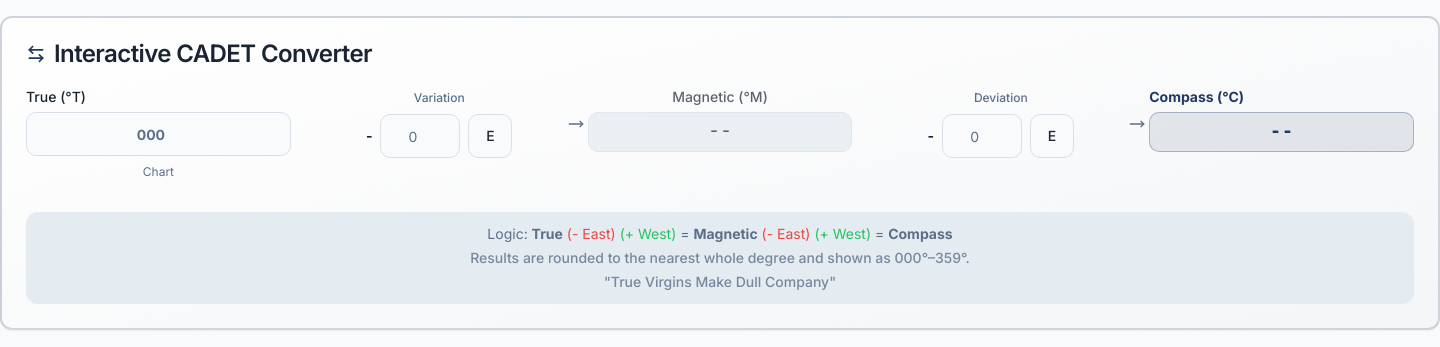
Test: CompassConverter › accepts bounds and decimals, toggles directions, and rounds only final headings
The width and height of the screenshot is (1440, 347).
Type "359" into the number field named "True heading". click: (158, 134)
box: [26, 112, 291, 156]
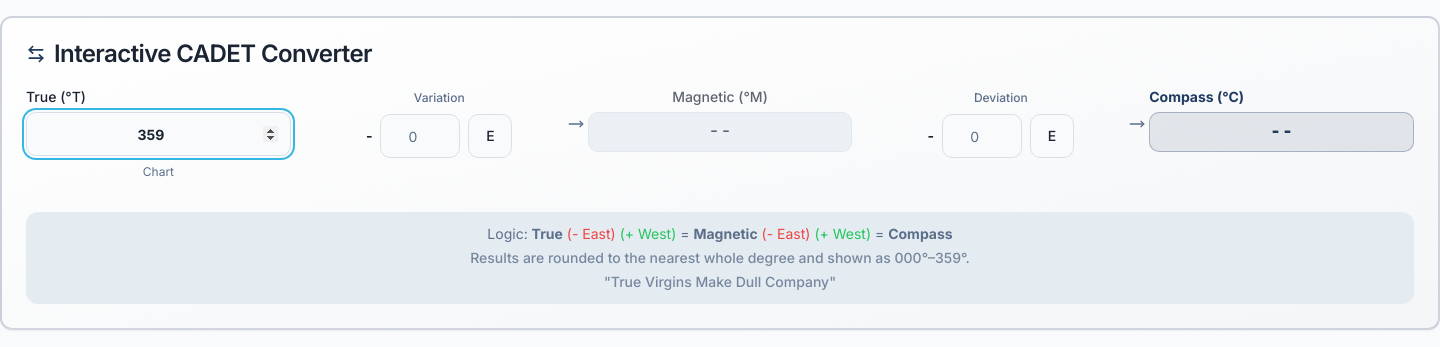
Type "0.4" into the number field named "Variation magnitude". click: (420, 136)
box: [380, 114, 460, 158]
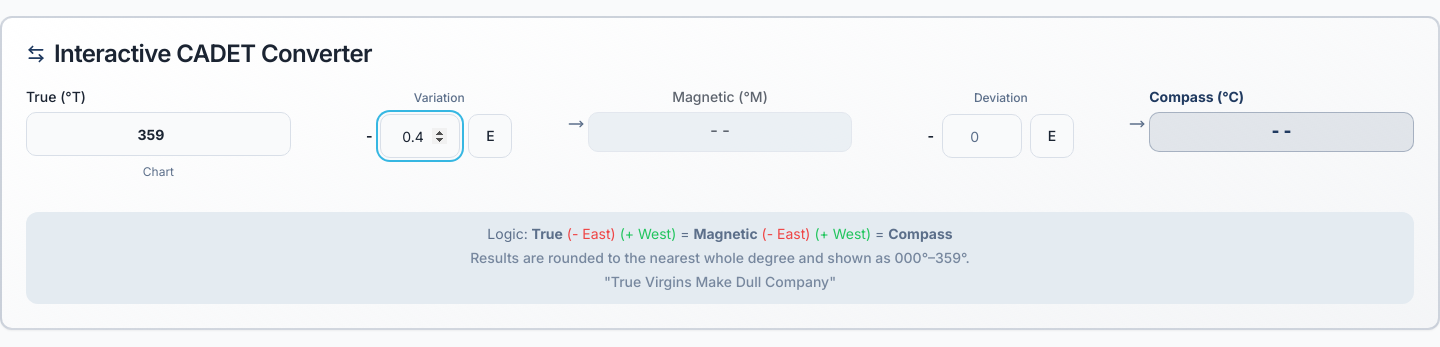
Type "90" into the number field named "Deviation magnitude". click: (982, 136)
box: [942, 114, 1022, 158]
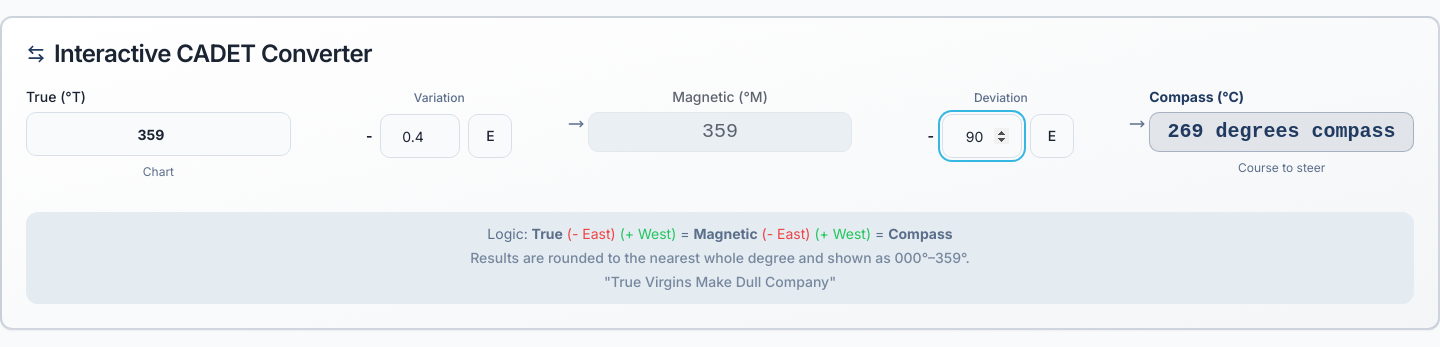
Now the text named "course to steer" shows "269", box [1168, 120, 1396, 143]
Click the button named "Variation direction: East". click: (490, 136)
box: [468, 114, 512, 158]
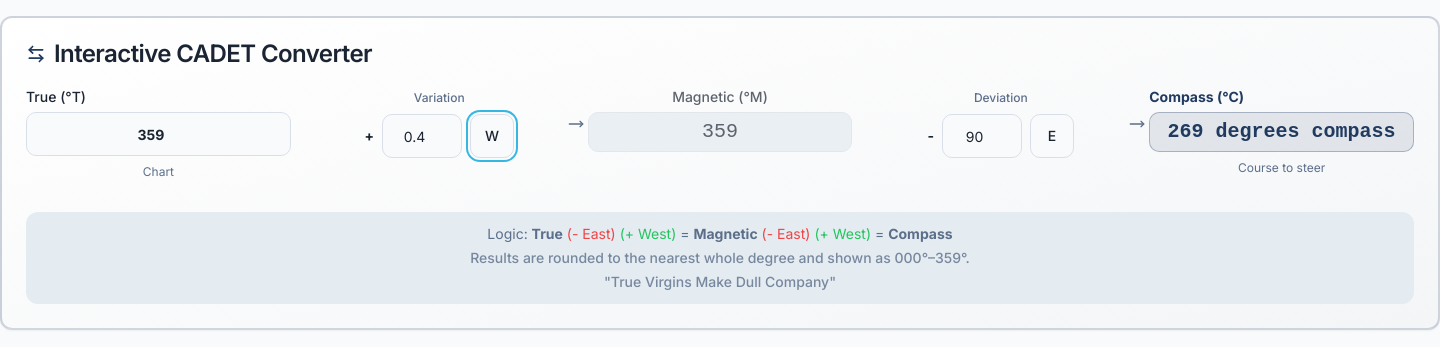
Click the button named "Deviation direction: East". click: (1052, 136)
box: [1030, 114, 1074, 158]
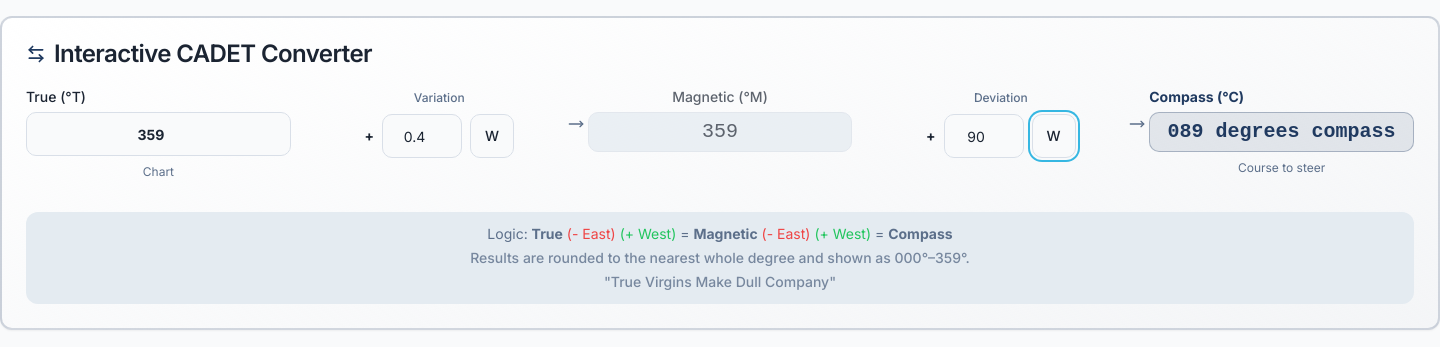
Now the text named "course to steer" shows "089", box [1168, 120, 1396, 143]
